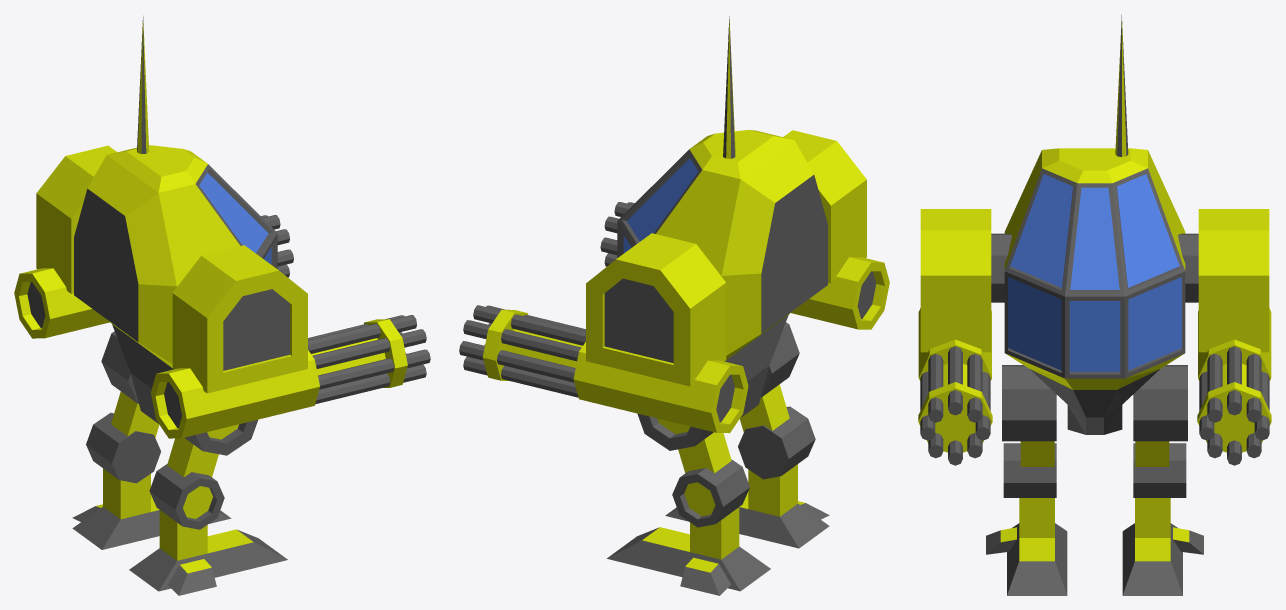
File: Mech.dae
3 renders of one model, left to right at view 1: azimuth 30°, elevation 25°; view 2: azimuth 150°, elevation 25°; view 3: azimuth 270°, elevation 25°, orthographic. The views are drawn at different scales.
Visible parts, largest first — view 1: Cube.002, Cube, Cube.001, Cylinder, Cone; view 2: Cube.002, Cube, Cube.001, Cylinder, Cone; view 3: Cube, Cube.002, Cube.001, Cylinder, Cone.
Boxes of the visible parts, <box> form: Cube.002: <box>14,145,407,438</box>; Cube: <box>74,145,277,423</box>; Cube.001: <box>72,331,287,595</box>; Cylinder: <box>261,215,430,404</box>; Cone: <box>137,15,149,153</box>; Cube.002: <box>482,130,889,433</box>; Cube: <box>617,130,827,417</box>; Cube.001: <box>607,322,829,595</box>; Cylinder: <box>459,202,634,397</box>; Cone: <box>723,16,735,158</box>; Cube: <box>1004,148,1185,434</box>; Cube.002: <box>918,209,1271,452</box>; Cube.001: <box>986,365,1203,595</box>; Cylinder: <box>920,346,1269,465</box>; Cone: <box>1115,14,1128,156</box>.
Size of the model in its own units: 3.19 by 3.91 by 6.56.
